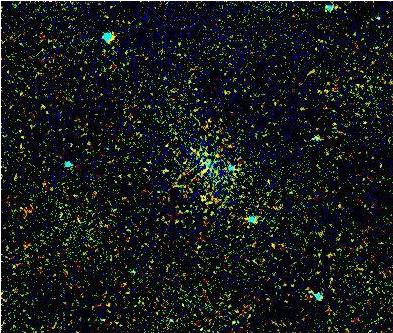star: (190, 184, 220, 214)
